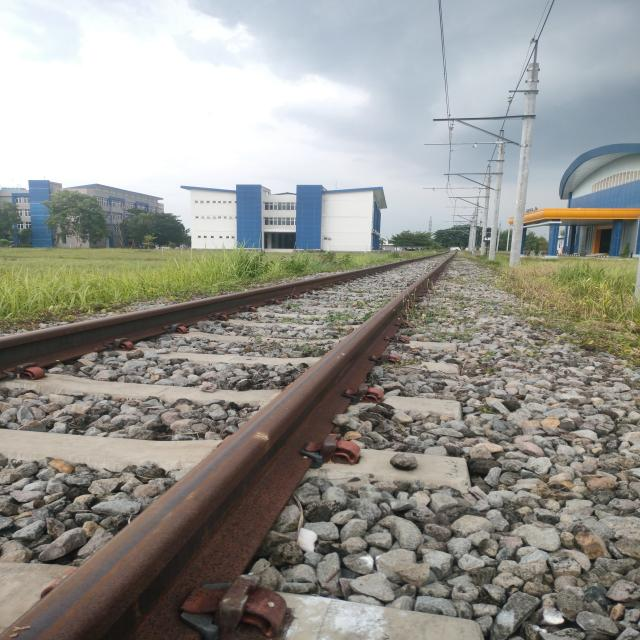rail-detection: (2, 254, 455, 640), (0, 255, 438, 375)
